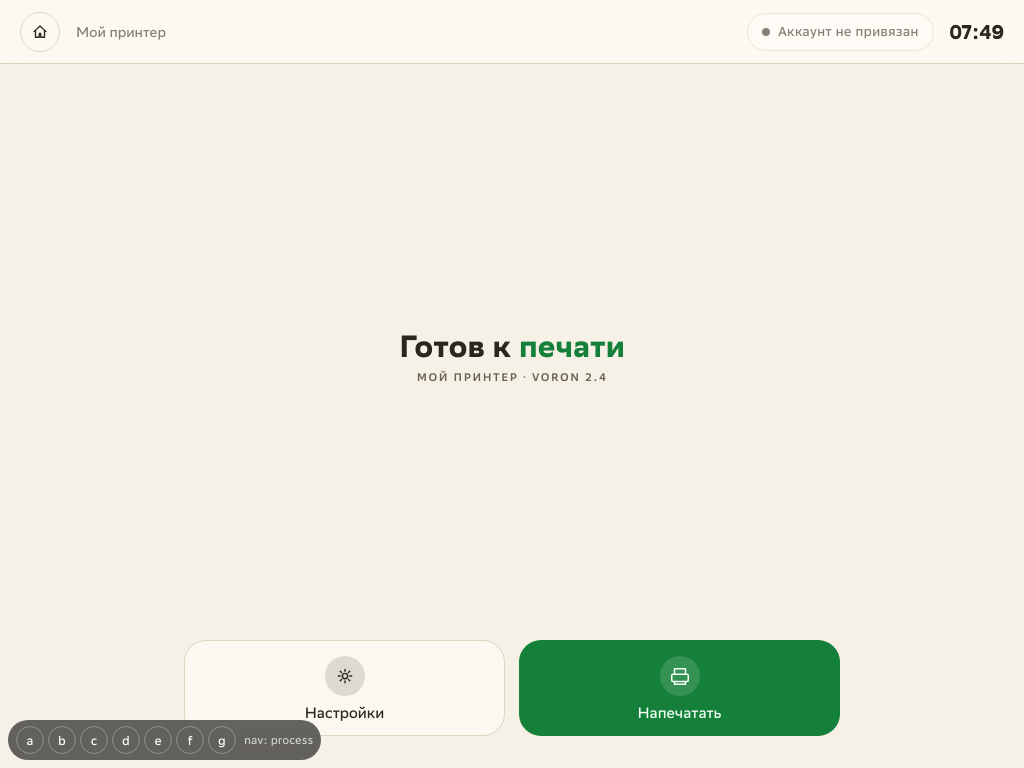
Test: PrinterFaceScreen › «Разобраться» снимает алерт и возвращает текущую сцену процесса
The width and height of the screenshot is (1024, 768).
Click the button "d" at (126, 740), box [112, 726, 140, 754]
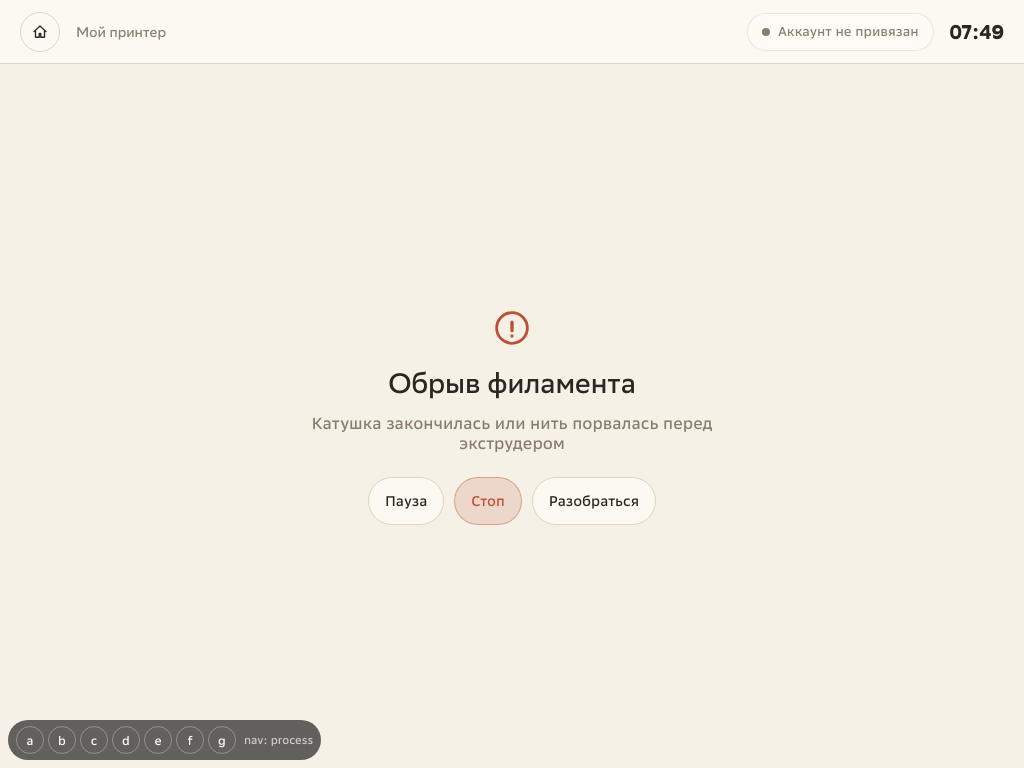
Result: the text "Обрыв филамента" is shown at [388, 366, 636, 398]
Click the button "Разобраться" at (594, 500), box [532, 476, 656, 524]
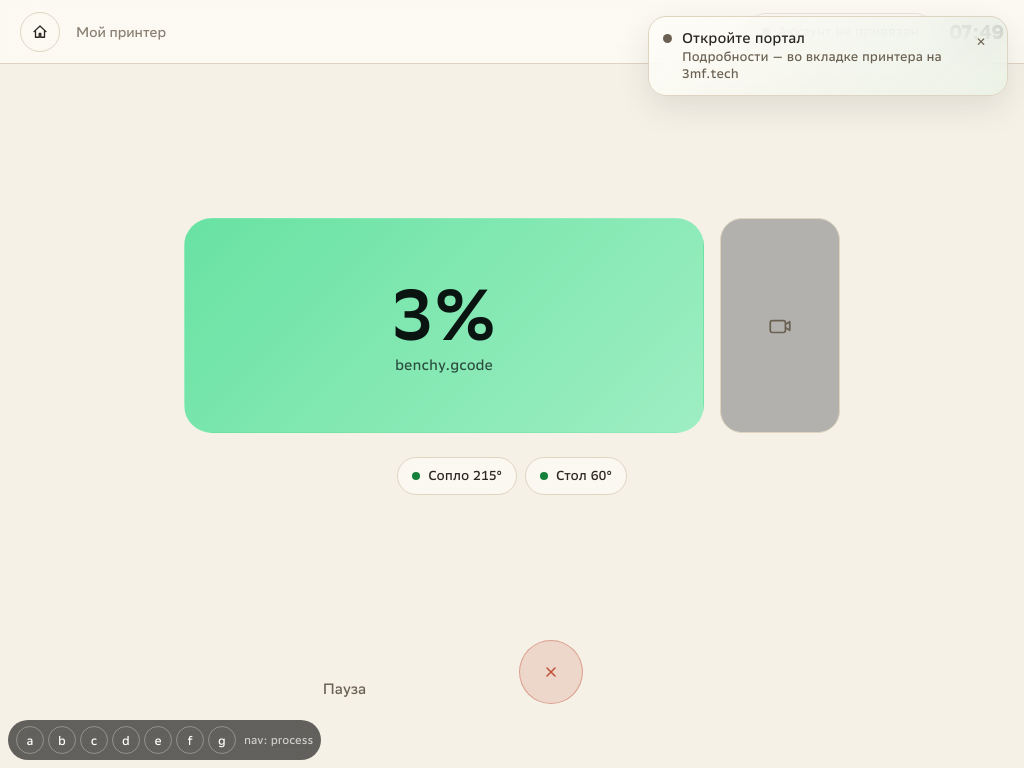
Result: the text "3%" is shown at [391, 278, 497, 350]
